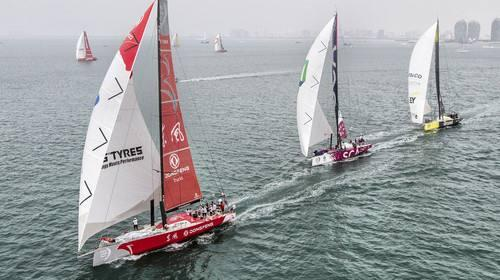fanchuan: (73, 1, 238, 267), (292, 10, 379, 168), (405, 15, 466, 137), (75, 30, 98, 64), (209, 32, 229, 56), (167, 33, 182, 50)
